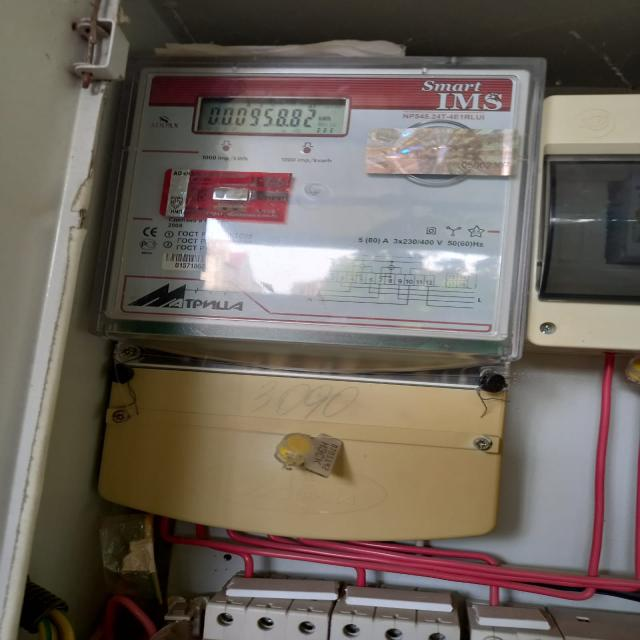Display: (191, 92, 351, 140)
meter_matrica: (92, 64, 540, 473)
meter_number: (154, 248, 243, 273)
seal_elso: (269, 428, 348, 480)
seal_imp: (157, 167, 294, 226)
